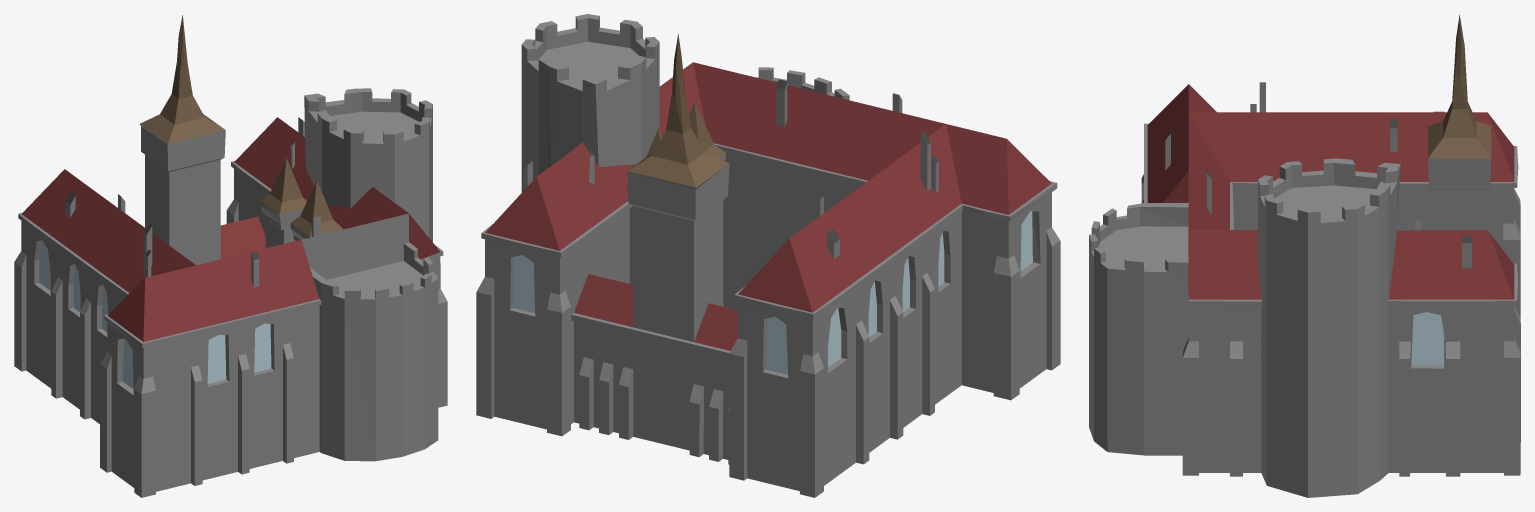
File: VilaNova_TownHall_Export_textured.fbx
3 views of the same model, side by side, from view 1: azimuth 30°, elevation 25°; view 2: azimuth 150°, elevation 25°; view 3: azimuth 270°, elevation 25° (orthographic). The views are drawn at different scales.
Parts seen in each view (by area): view 1: TownHall_LOD0; view 2: TownHall_LOD0; view 3: TownHall_LOD0.
Boxes of the visible parts, left/top/right/bottom form: TownHall_LOD0: left=14, top=15, right=447, bottom=497; TownHall_LOD0: left=476, top=14, right=1060, bottom=497; TownHall_LOD0: left=1089, top=15, right=1520, bottom=497.
Size of what is drawn, in the model's own units: 2900 by 2562 by 2621.
